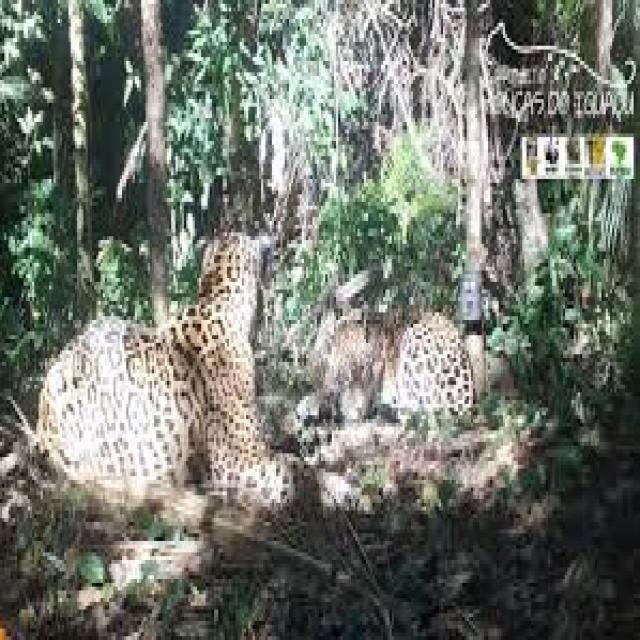Jaguar: (296, 308, 478, 426)
